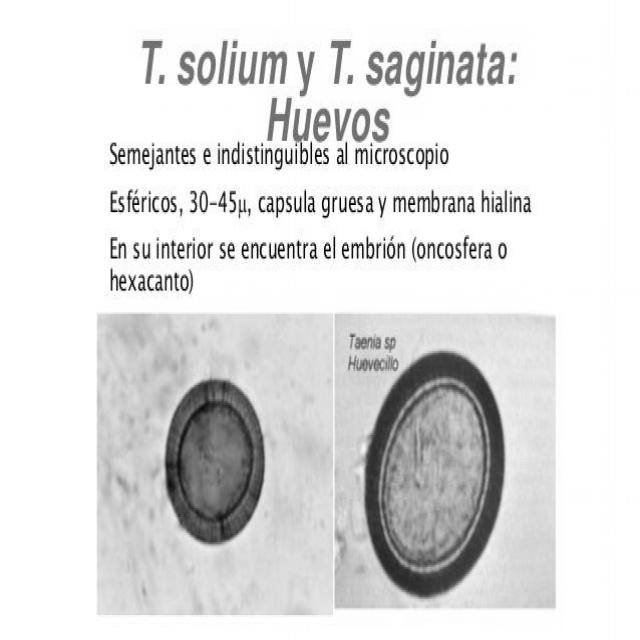Taenia Sp: (365, 341, 512, 607), (159, 378, 272, 554)
